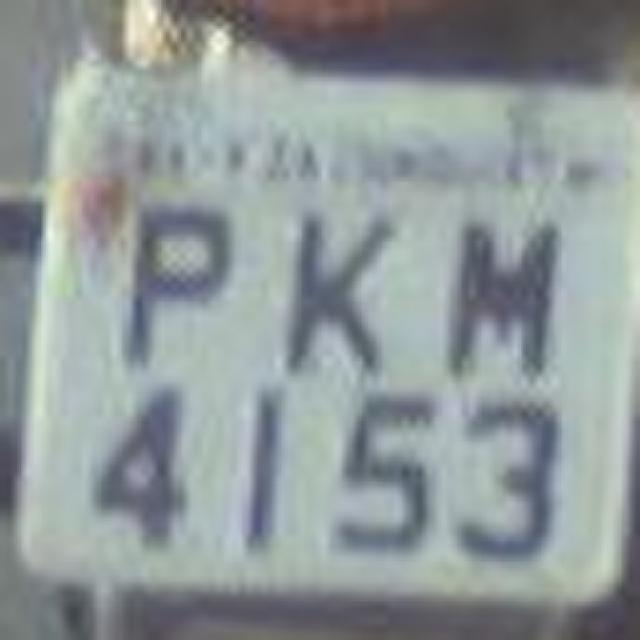1: (220, 376, 315, 569)
3: (436, 372, 592, 572)
4: (84, 372, 208, 576)
5: (332, 380, 456, 555)
K: (268, 200, 400, 380)
M: (440, 184, 555, 384)
P: (120, 200, 225, 388)
